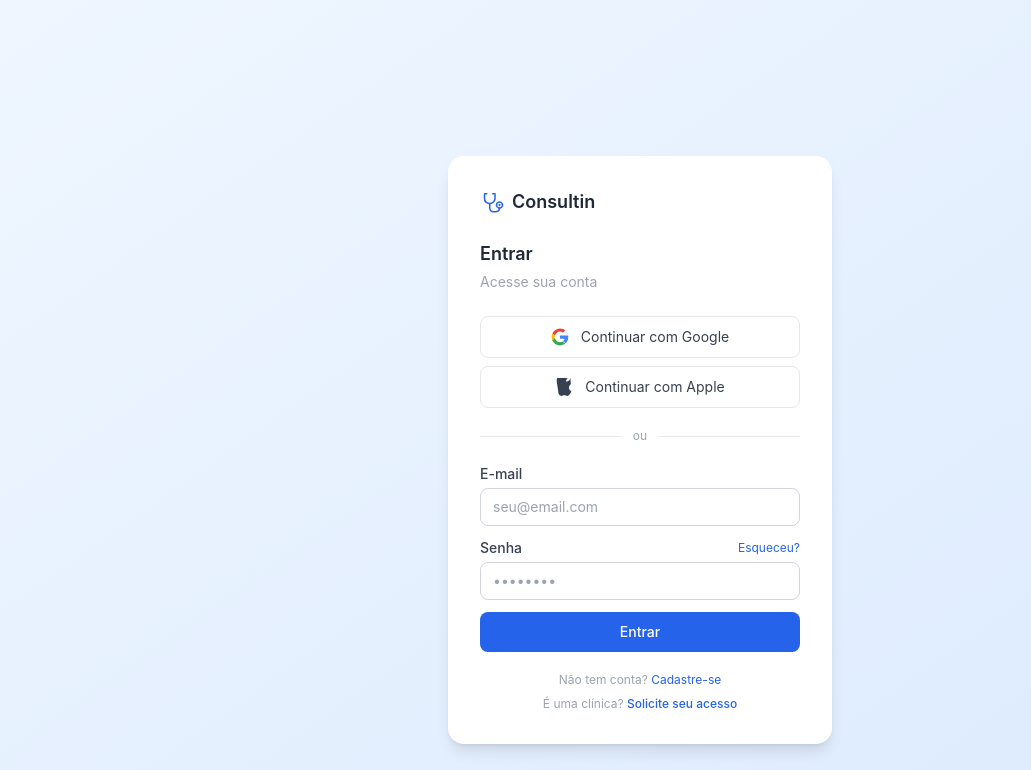
LoginPage — forgot password view › switches to forgot password view when "Esqueceu?" is clicked
Click the button "Esqueceu?". click: {"x": 769, "y": 548}
box: [738,540,800,556]
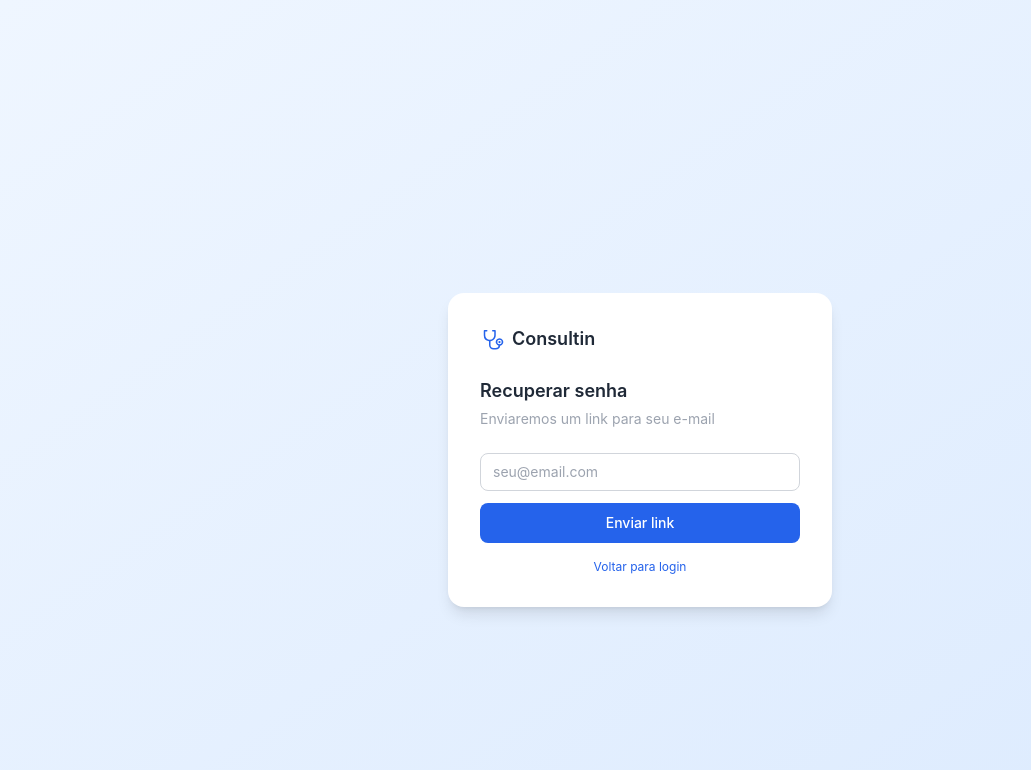
Now the heading "Recuperar senha" is shown, box [480,380,627,401]
